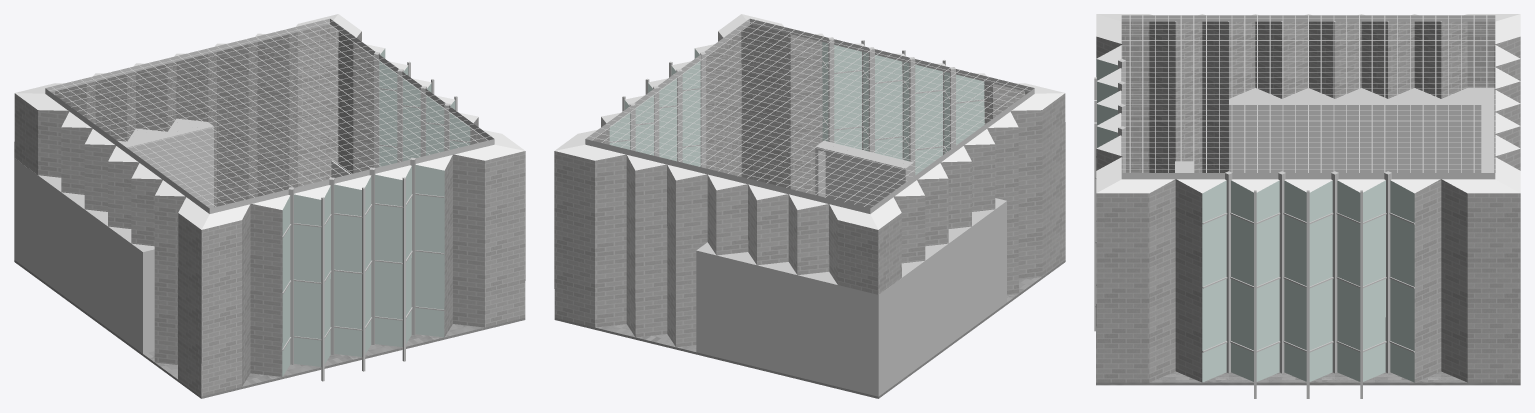
File: Facility.fbx
3 views of the same model, side by side, from view 1: azimuth 30°, elevation 25°; view 2: azimuth 150°, elevation 25°; view 3: azimuth 270°, elevation 25° (orthographic). The views are drawn at different scales.
Parts seen in each view (by area): view 1: Museum_Wall, Museum_Window_Plane, Museum_Wall_Entrance, Museum_Black_Roof, Museum_Roof_Frame, Museum_Floor, Verticle_Column_7, Verticle_Column_5, Verticle_Column_10, Verticle_Column_9, Verticle_Column_8, Verticle_Column_4 (+3 smaller); view 2: Museum_Wall, Museum_Wall_Entrance, Museum_Window_Plane, Museum_Black_Roof, Museum_Roof_Frame, FlowFieldFrame, Museum_Floor, Verticle_Column_5, Verticle_Column_6, Verticle_Column_7, Verticle_Column_3, Verticle_Column_2 (+1 smaller); view 3: Museum_Wall, Museum_Window_Plane, Museum_Wall_Entrance, Museum_Black_Roof, Museum_Roof_Frame, Museum_Floor, Verticle_Column_2, Verticle_Column_1, Verticle_Column, Verticle_Column_3, Verticle_Column_12, Verticle_Column__40_ (+3 smaller).
Boxes of the visible parts, bbox=[...] form: Museum_Wall: bbox=[14, 24, 525, 396]; Museum_Window_Plane: bbox=[282, 48, 470, 376]; Museum_Wall_Entrance: bbox=[14, 118, 213, 353]; Museum_Black_Roof: bbox=[15, 14, 524, 229]; Museum_Roof_Frame: bbox=[45, 18, 494, 213]; Museum_Floor: bbox=[14, 260, 525, 398]; Verticle_Column_7: bbox=[410, 157, 415, 335]; Verticle_Column_5: bbox=[329, 177, 334, 354]; Verticle_Column_10: bbox=[321, 197, 324, 381]; Verticle_Column_9: bbox=[362, 187, 365, 371]; Verticle_Column_8: bbox=[402, 177, 405, 361]; Verticle_Column_4: bbox=[288, 187, 294, 364]; Museum_Wall: bbox=[554, 24, 1065, 347]; Museum_Wall_Entrance: bbox=[696, 198, 1006, 396]; Museum_Window_Plane: bbox=[609, 42, 984, 175]; Museum_Black_Roof: bbox=[555, 14, 1064, 229]; Museum_Roof_Frame: bbox=[585, 18, 1034, 213]; FlowFieldFrame: bbox=[815, 141, 913, 208]; Museum_Floor: bbox=[554, 260, 1065, 398]; Verticle_Column_5: bbox=[909, 57, 915, 176]; Verticle_Column_6: bbox=[868, 47, 874, 152]; Verticle_Column_7: bbox=[828, 37, 834, 142]; Verticle_Column_3: bbox=[700, 52, 705, 168]; Verticle_Column_2: bbox=[676, 69, 682, 162]; Museum_Wall: bbox=[1096, 21, 1520, 382]; Museum_Window_Plane: bbox=[1096, 59, 1414, 382]; Museum_Wall_Entrance: bbox=[1229, 87, 1494, 172]; Museum_Black_Roof: bbox=[1096, 14, 1520, 193]; Museum_Roof_Frame: bbox=[1121, 15, 1495, 179]; Museum_Floor: bbox=[1096, 371, 1520, 385]; Verticle_Column_2: bbox=[1278, 171, 1285, 373]; Verticle_Column_1: bbox=[1331, 171, 1338, 373]; Verticle_Column: bbox=[1384, 171, 1391, 373]; Verticle_Column_3: bbox=[1225, 171, 1232, 373]; Verticle_Column_12: bbox=[1306, 190, 1309, 398]; Verticle_Column__40_: bbox=[1122, 120, 1494, 121].
Size of the model in its own units: 905 by 501 by 904.
